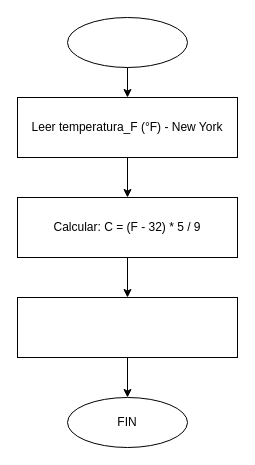
Image size: 255x465. Some labels were removed from this diagram. Here are the shapes that lost their labels. From the top down, the box of each, then its label:
(66, 16, 188, 68): INICIO
(16, 296, 238, 358): Mostrar temperatura_C (°C)
